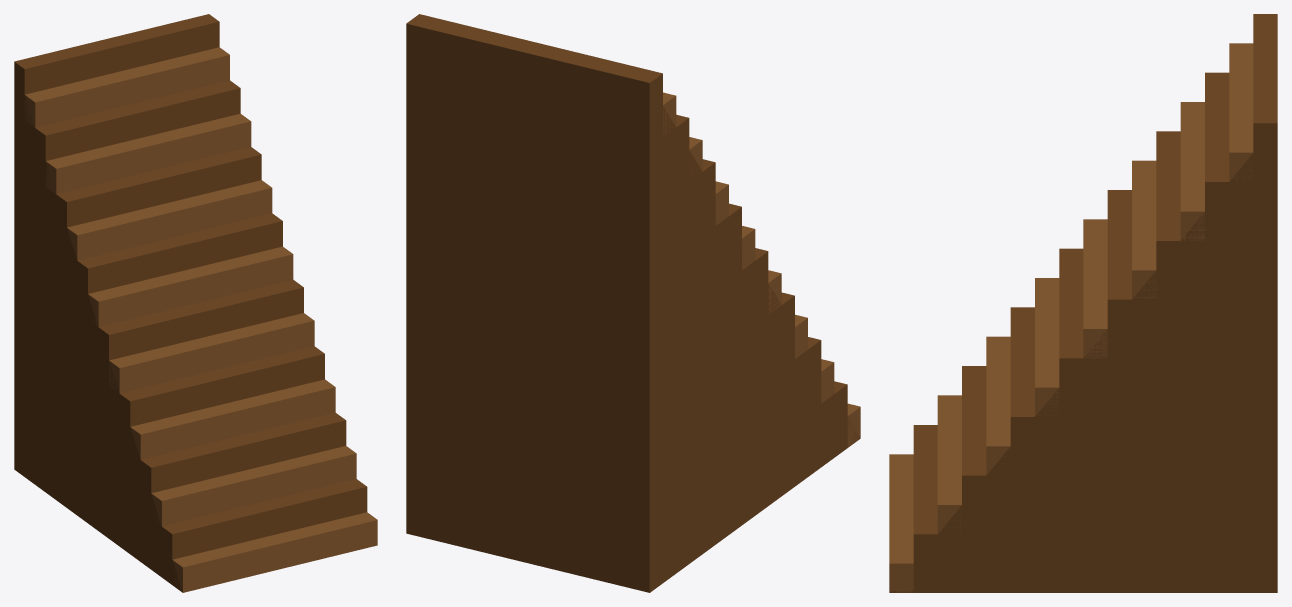
Rendered from RampHalf.obj.
The picture shows the model from 3 angles, left to right: view 1: azimuth 30°, elevation 25°; view 2: azimuth 150°, elevation 25°; view 3: azimuth 270°, elevation 25°; orthographic projection. The views are drawn at different scales.
Bounding box in the file's own units: 256 × 512 × 384.
